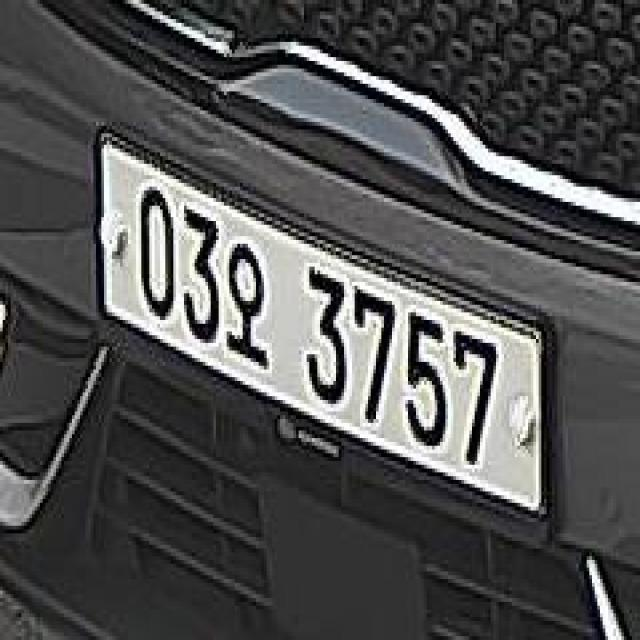illegal_plate: (86, 139, 554, 534)
